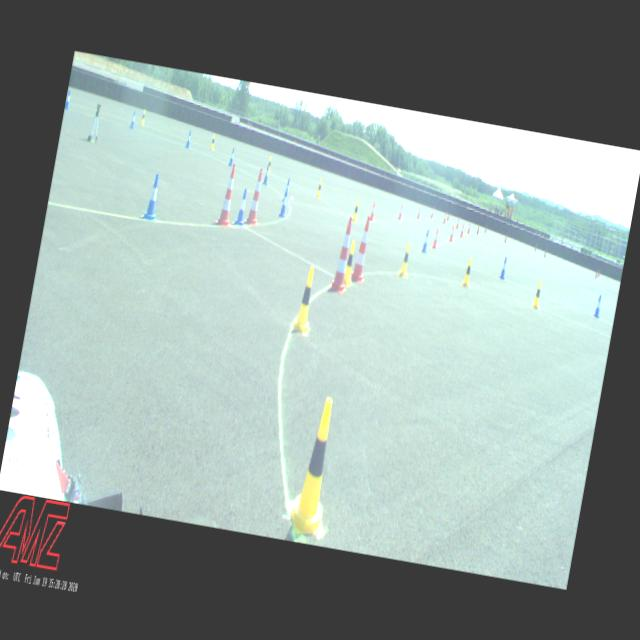blue_cone: (142, 172, 164, 221), (232, 186, 250, 225), (278, 188, 290, 218), (592, 293, 603, 318), (281, 176, 291, 202), (498, 256, 508, 280), (420, 228, 430, 252), (128, 110, 138, 129), (228, 147, 236, 167), (262, 166, 270, 186), (64, 90, 72, 110), (185, 130, 192, 148)
large_orange_cone: (328, 214, 358, 294), (214, 162, 241, 228), (349, 214, 375, 282), (243, 166, 267, 226)
orange_cone: (431, 227, 440, 250), (368, 200, 376, 222), (396, 203, 404, 220), (448, 224, 455, 242), (416, 206, 422, 219), (458, 224, 464, 236), (466, 222, 472, 233), (455, 217, 460, 230), (442, 212, 446, 224), (430, 208, 434, 218)
yellow_cone: (285, 394, 346, 538), (290, 264, 320, 335), (340, 237, 358, 284), (398, 240, 412, 278), (460, 256, 474, 288), (530, 280, 544, 310), (350, 198, 360, 224), (316, 178, 324, 198), (139, 108, 147, 126), (210, 132, 217, 150), (266, 156, 272, 172)
